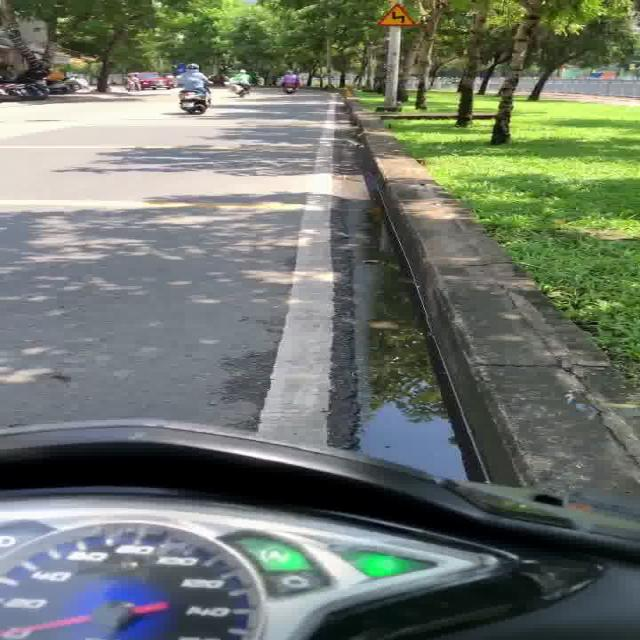Bien bao nhieu cho ngoat nguy hiem lien tiep: (372, 2, 424, 31)
